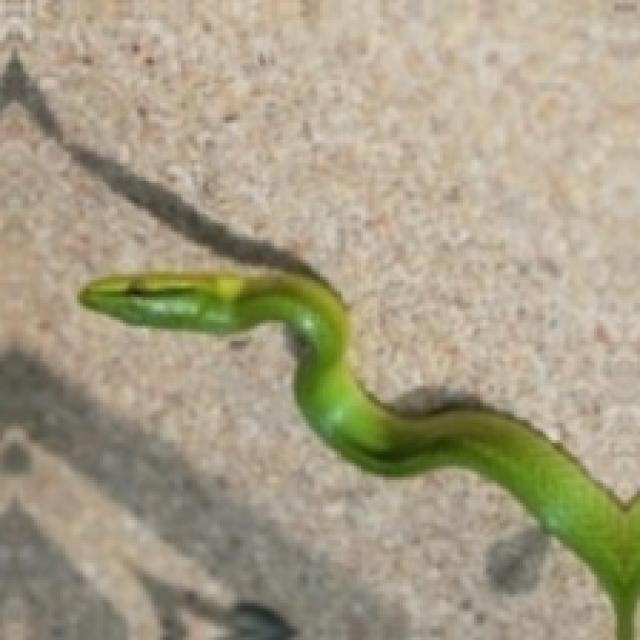red-tailed green ratsnake: (80, 269, 637, 637)
